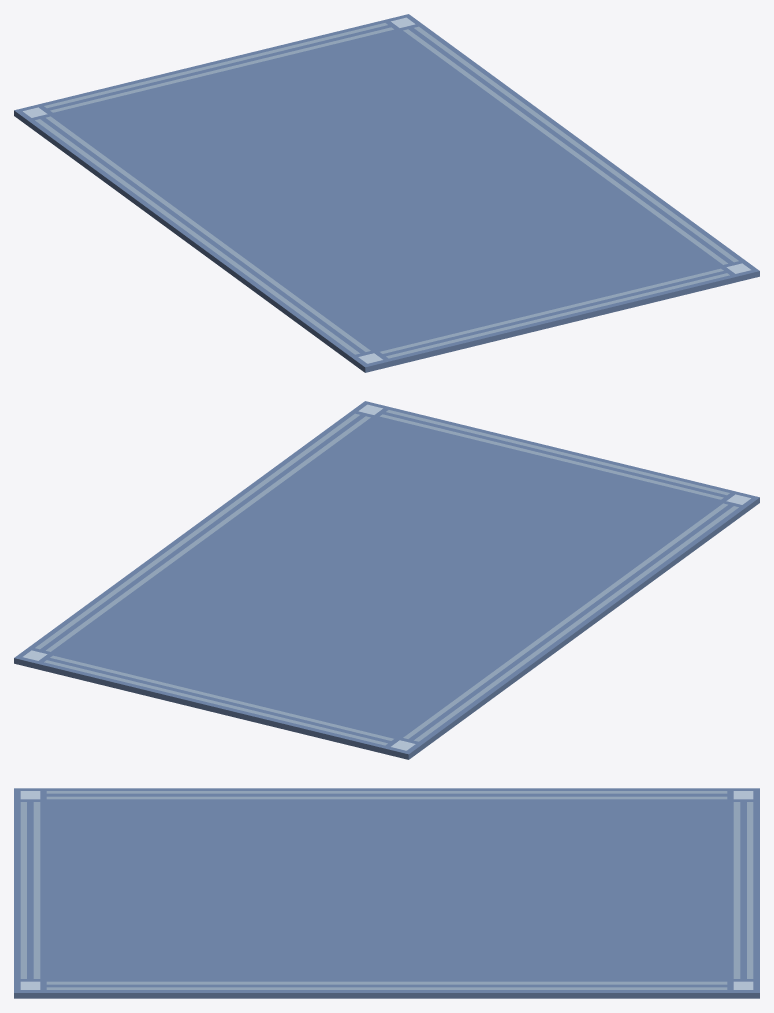
Rendered from Teppich02Larger.fbx.
3 views of the same model, one above another, from view 1: azimuth 30°, elevation 25°; view 2: azimuth 150°, elevation 25°; view 3: azimuth 270°, elevation 25° (orthographic). The views are drawn at different scales.
Visible parts, largest first — view 1: Teppich02Larger; view 2: Teppich02Larger; view 3: Teppich02Larger.
Boxes of the visible parts, x1,y1,x2,y2 form: Teppich02Larger: (14, 14, 759, 372); Teppich02Larger: (14, 401, 759, 759); Teppich02Larger: (14, 788, 759, 998).
Size of the model in its own units: 462 by 6.25 by 712.
